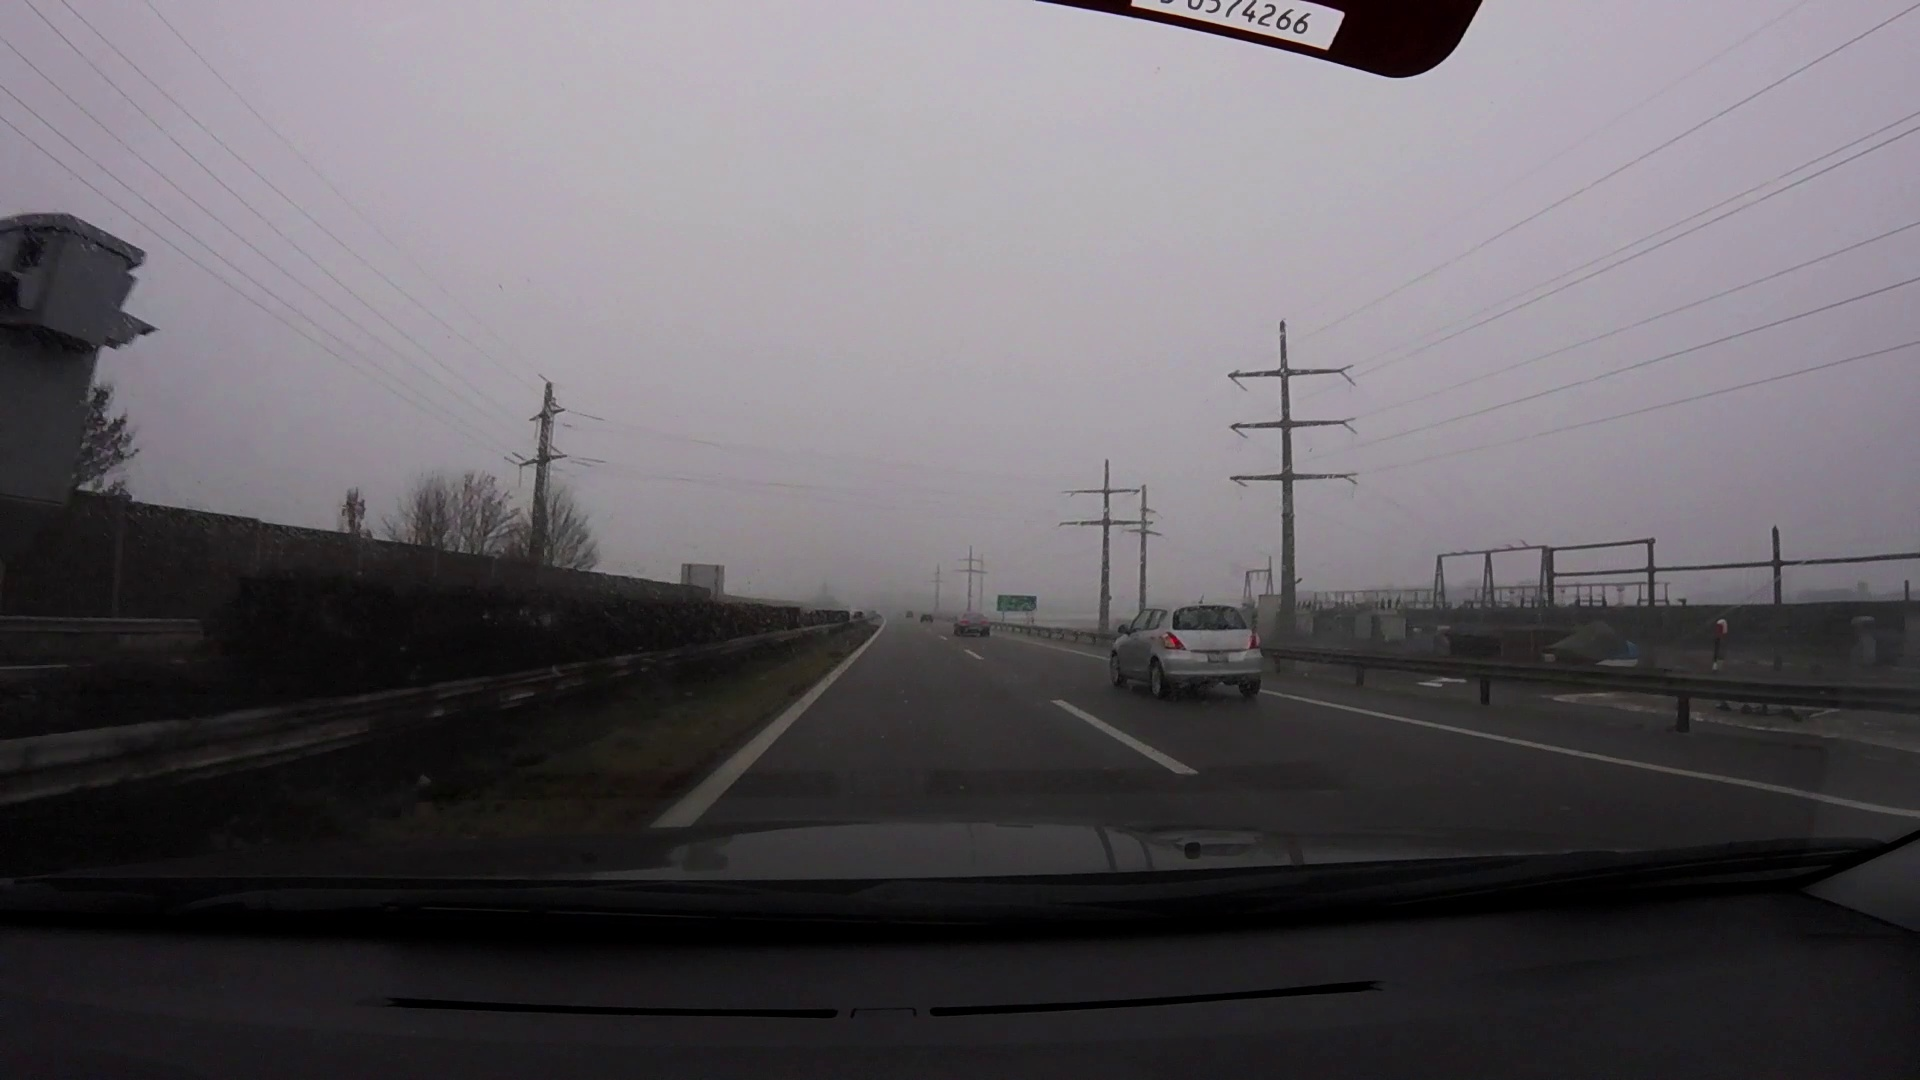radar: (1, 204, 162, 589)
